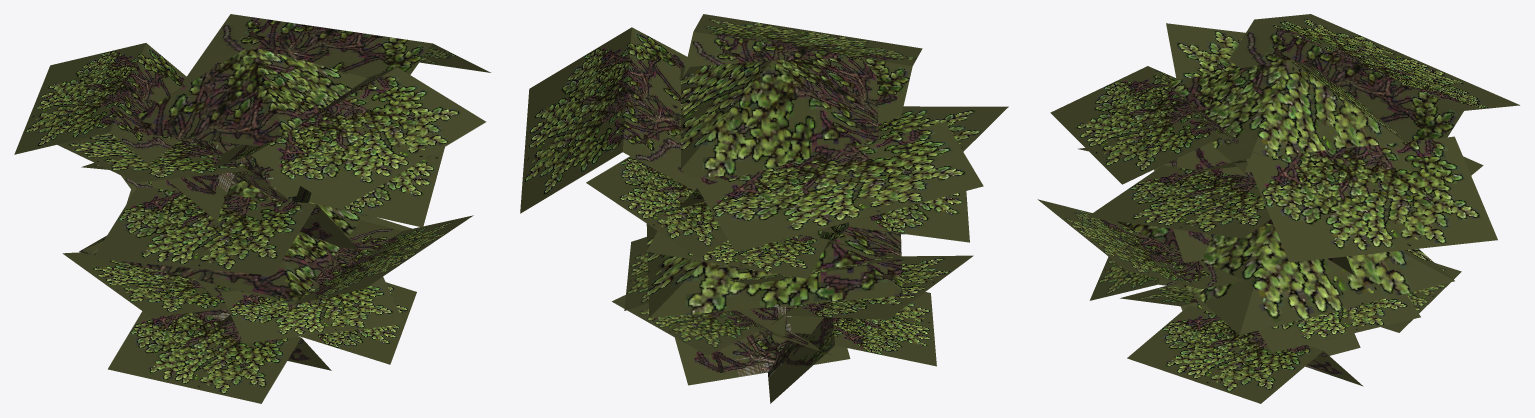
File: flora_tree_bush_mediterranean_v4.glb
The picture shows the model from 3 angles, left to right: view 1: azimuth 30°, elevation 25°; view 2: azimuth 150°, elevation 25°; view 3: azimuth 270°, elevation 25°; orthographic projection.
Parts seen in each view (by area): view 1: flora_tree_bush_mediterranean_v4_part0; view 2: flora_tree_bush_mediterranean_v4_part0; view 3: flora_tree_bush_mediterranean_v4_part0.
Boxes of the visible parts, x1=… form: flora_tree_bush_mediterranean_v4_part0: x1=14, y1=14, x2=490, y2=403; flora_tree_bush_mediterranean_v4_part0: x1=520, y1=14, x2=1008, y2=403; flora_tree_bush_mediterranean_v4_part0: x1=1037, y1=14, x2=1519, y2=403.
Bounding box in the file's own units: 4.58 × 2.89 × 4.16.
Materials: 1 (1 with a texture image).
